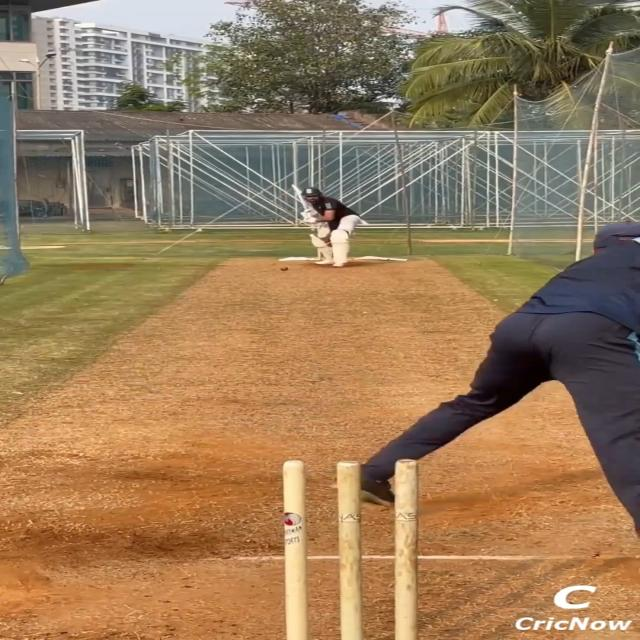ball: (279, 266, 288, 271)
stump: (276, 458, 428, 640)
